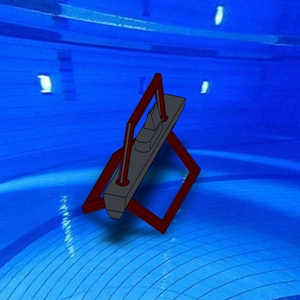submarine: (80, 71, 205, 237)
